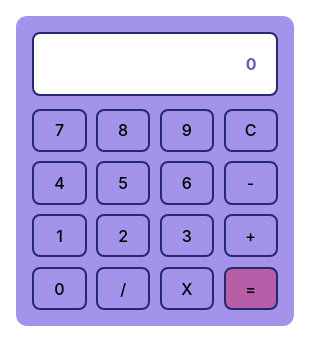
Test: updates screen value after clicking on number button
Click the button "1".
click(59, 236)  # box left=32, top=214, right=86, bottom=257
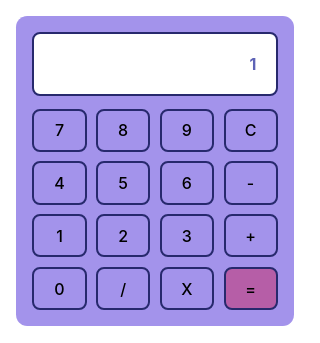
Result: the text with test id "calculator-screen" reads "1" at left=250, top=54, right=256, bottom=74
Click the button "8".
click(123, 130)  # box left=96, top=109, right=150, bottom=152
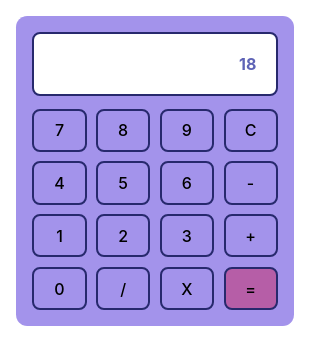
Result: the text with test id "calculator-screen" shows "8" at left=32, top=32, right=278, bottom=96
